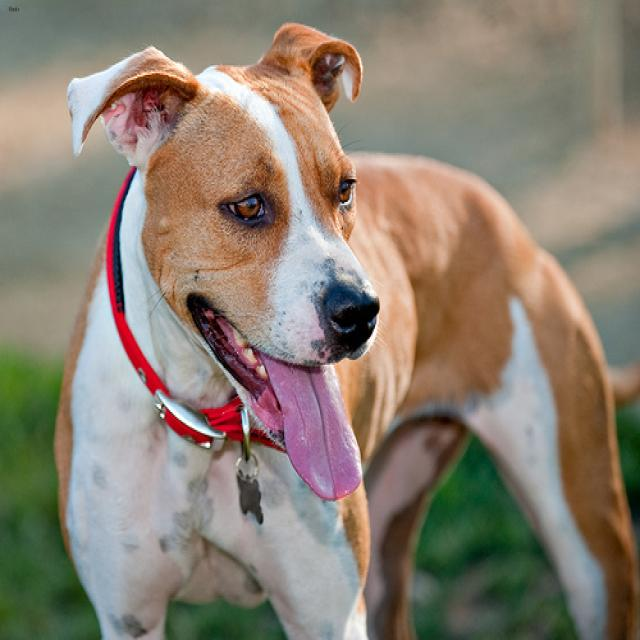dog-staffordshire_bull_terrier: (49, 11, 637, 637)
